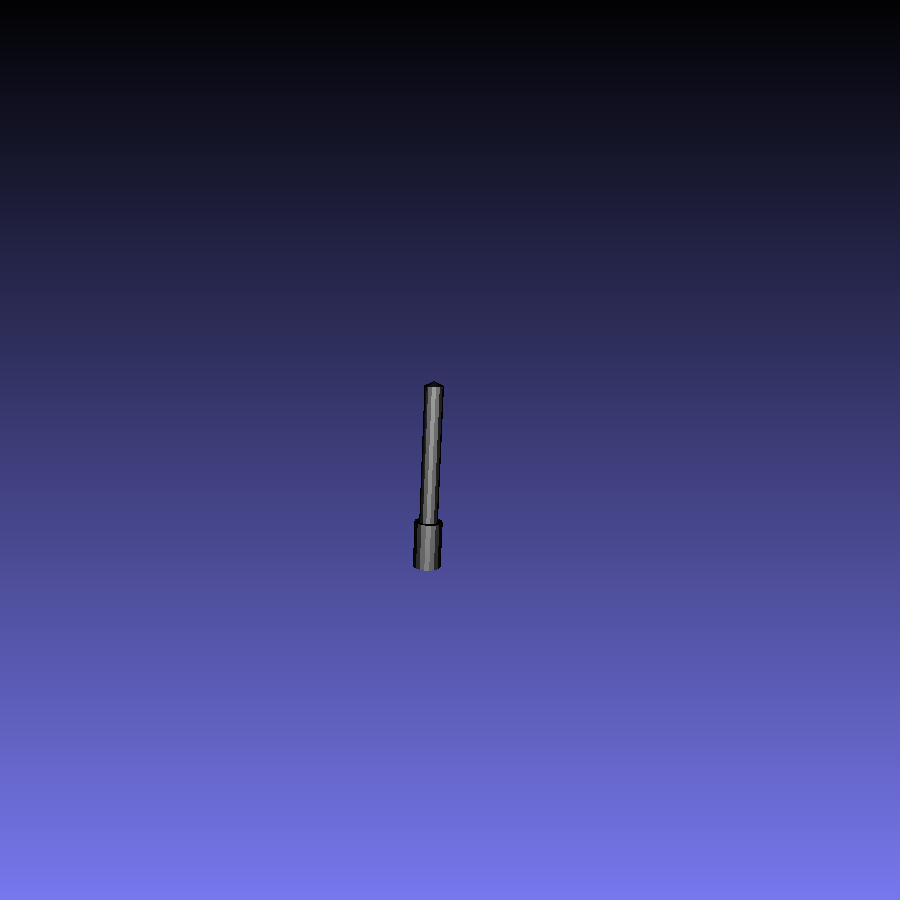cargo_g: (412, 379, 447, 574)
